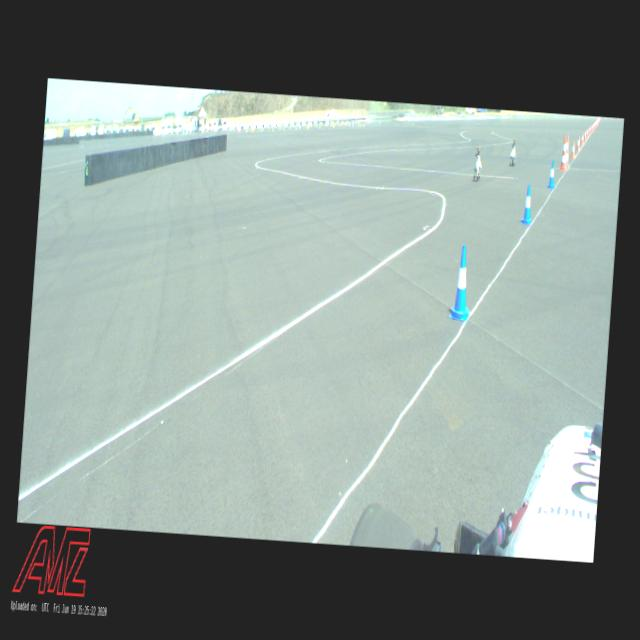blue_cone: (448, 244, 474, 322), (520, 184, 534, 223), (547, 161, 555, 188)
large_orange_cone: (559, 136, 568, 170), (563, 134, 571, 168)
orange_cone: (570, 141, 576, 157), (576, 136, 580, 150), (580, 132, 584, 145), (586, 126, 589, 137), (584, 129, 586, 140), (590, 123, 592, 132), (588, 126, 590, 134), (592, 122, 594, 130)
